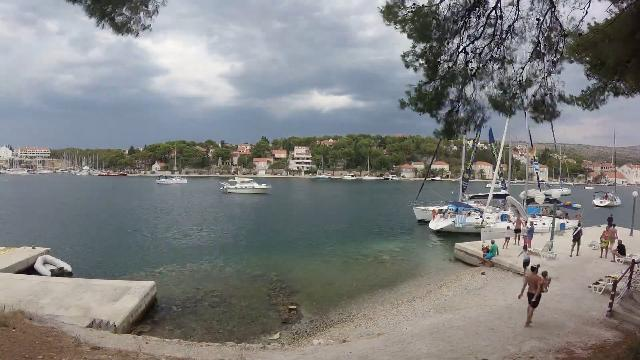Sailboat: (151, 172, 197, 190)
ferry: (218, 173, 276, 199)
